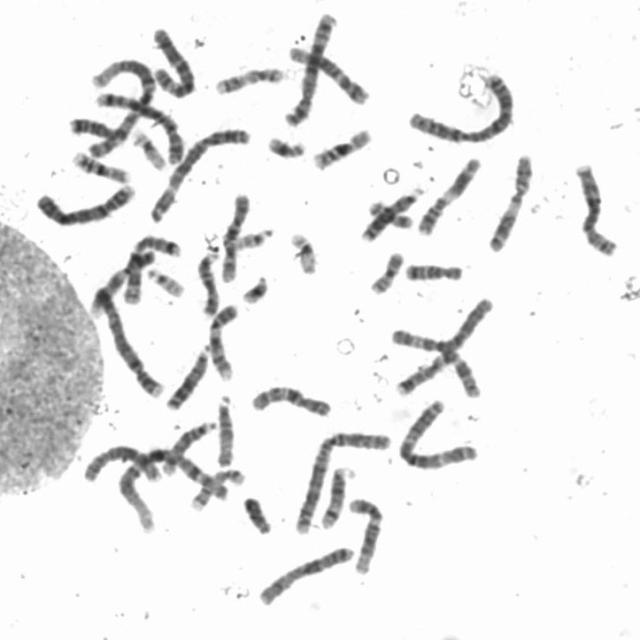A1: (110, 440, 233, 534), (82, 53, 158, 159)
A2: (290, 423, 396, 535), (402, 69, 516, 145)
A3: (147, 123, 254, 225), (395, 394, 482, 471)
B4: (90, 282, 168, 401), (31, 177, 138, 229)
B5: (92, 88, 187, 166), (281, 8, 339, 128)
C10: (216, 187, 253, 284), (246, 379, 334, 419)
C11: (412, 152, 484, 238), (484, 148, 536, 254)
C12: (284, 38, 374, 106), (344, 493, 387, 575)
C6: (390, 292, 495, 398), (149, 21, 199, 100)
C7: (389, 292, 494, 398), (119, 228, 185, 305)
C8: (571, 157, 621, 258), (78, 440, 164, 484)
C9: (86, 246, 157, 318), (204, 299, 241, 382)
D13: (358, 182, 428, 242), (161, 340, 213, 412)
D14: (155, 416, 219, 476), (316, 460, 359, 531)
D15: (193, 245, 222, 318), (212, 389, 238, 469)
E16: (308, 123, 375, 172), (67, 146, 133, 184)
E17: (184, 463, 246, 512), (210, 61, 287, 96)
E18: (65, 112, 126, 146), (401, 257, 466, 283)
F19: (128, 125, 168, 170), (286, 227, 320, 276)
F20: (366, 246, 407, 296), (367, 200, 415, 232)
G21: (263, 131, 308, 160), (237, 270, 271, 305)
G22: (142, 262, 188, 298), (230, 223, 276, 251)
X: (255, 541, 357, 607)
Y: (238, 491, 275, 537)
